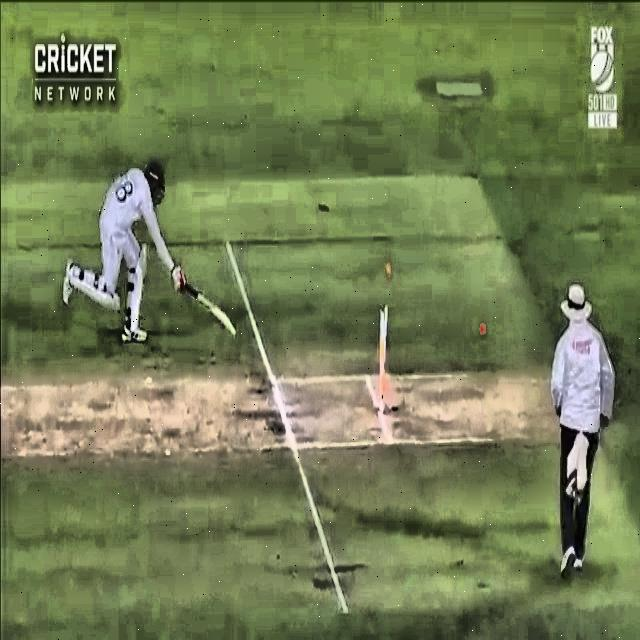Ball: (464, 318, 491, 343)
Bat: (164, 263, 240, 341)
Dis_Wicket: (353, 258, 406, 419)
Pitch_Line: (224, 241, 346, 615)
